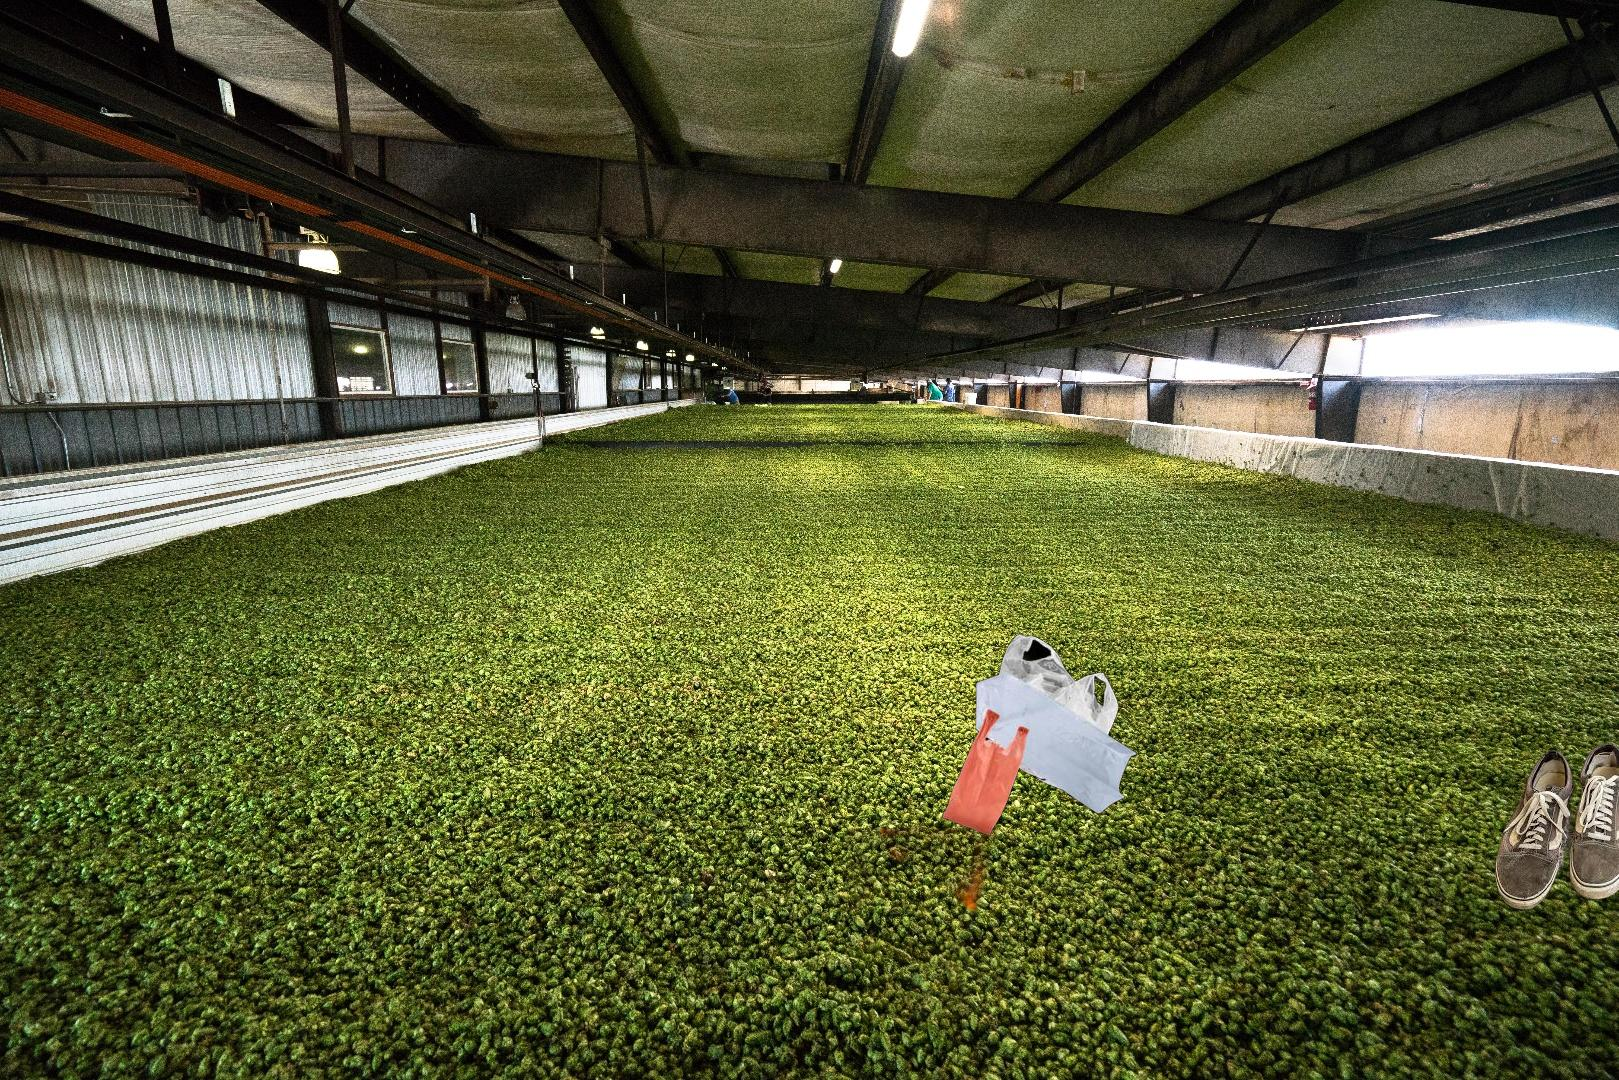plastic-bag: (841, 828, 1142, 1080), (939, 630, 1139, 839)
shoes: (1492, 740, 1619, 912)
